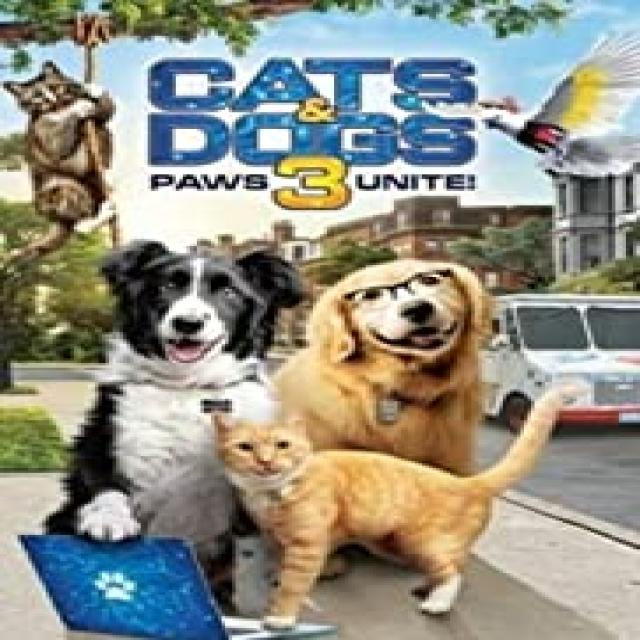cat: (209, 418, 601, 627), (2, 57, 132, 238)
dog: (66, 232, 295, 590), (316, 257, 497, 437)
